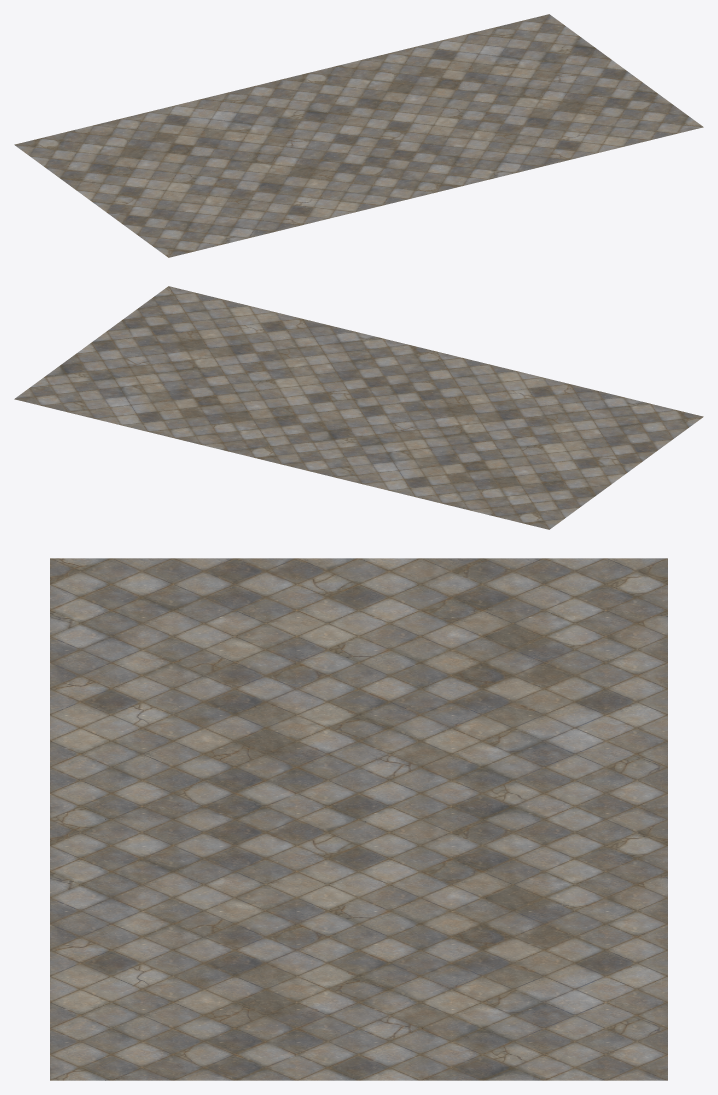
3 views of the same model, one above another, from view 1: azimuth 30°, elevation 25°; view 2: azimuth 150°, elevation 25°; view 3: azimuth 270°, elevation 25° (orthographic). The views are drawn at different scales.
Visible parts, largest first — view 1: Floor01_LOD0, Floor01_LOD0.001; view 2: Floor01_LOD0, Floor01_LOD0.001; view 3: Floor01_LOD0, Floor01_LOD0.001.
Boxes of the visible parts, x1,y1,x2,y2 form: Floor01_LOD0: (14, 79, 435, 257); Floor01_LOD0.001: (282, 14, 703, 192); Floor01_LOD0: (282, 351, 703, 529); Floor01_LOD0.001: (14, 286, 435, 464); Floor01_LOD0: (50, 558, 667, 819); Floor01_LOD0.001: (50, 819, 667, 1080).
Size of what is drawn, in the model's own units: 10 by 3.06e-16 by 5.
1 material, 1 textured.
